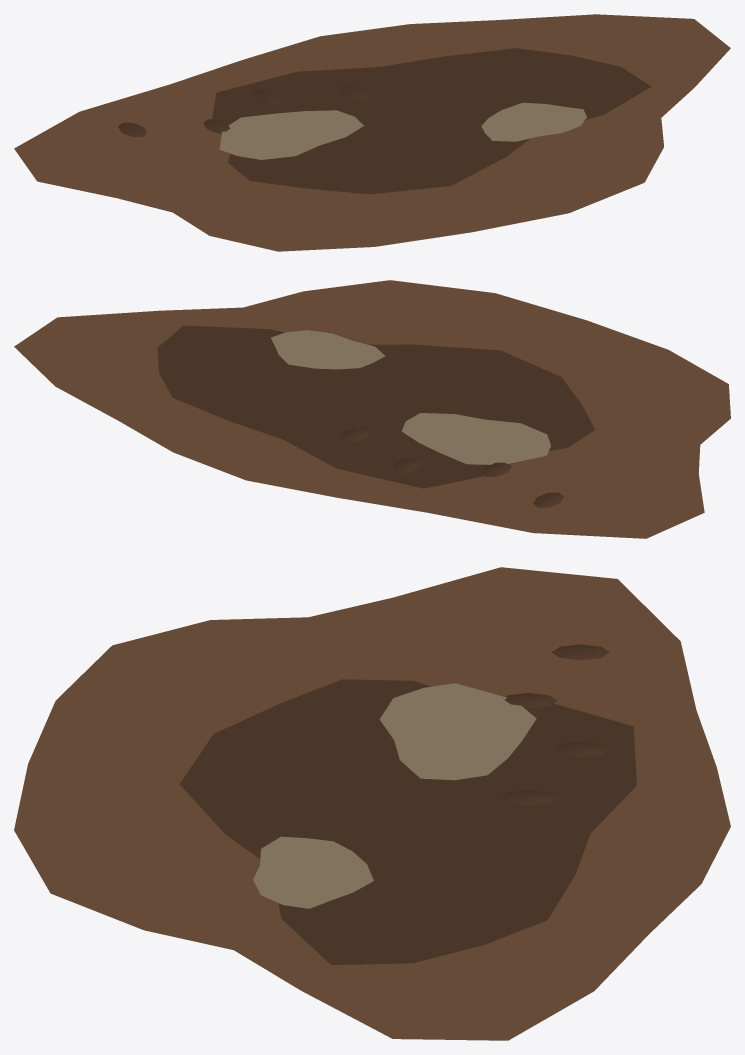
Rendered from foot_mud.glb.
3 views of the same model, one above another, from view 1: azimuth 30°, elevation 25°; view 2: azimuth 150°, elevation 25°; view 3: azimuth 270°, elevation 25° (orthographic). The views are drawn at different scales.
Parts seen in each view (by area): view 1: FootMud_body; view 2: FootMud_body; view 3: FootMud_body.
Boxes of the visible parts, x1,y1,x2,y2 form: FootMud_body: [14, 14, 730, 251]; FootMud_body: [14, 280, 730, 538]; FootMud_body: [14, 567, 730, 1040].
Bounding box in the file's own units: 5.37 × 0.027 × 3.43.
